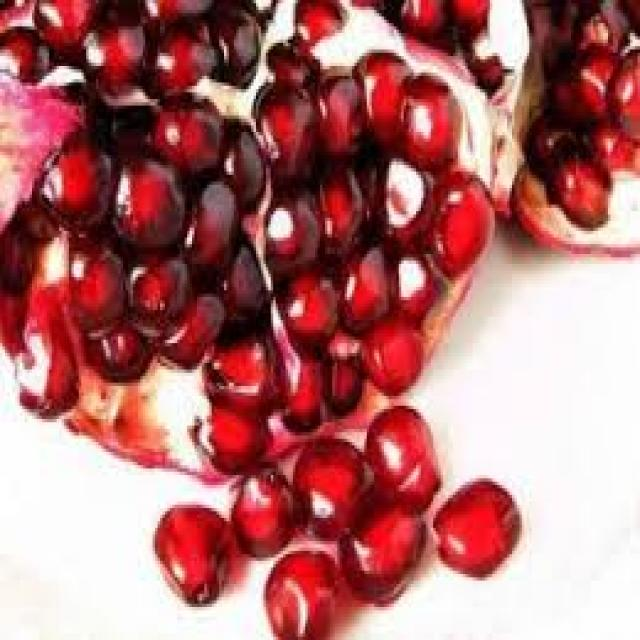organic waste: (0, 0, 527, 478), (502, 0, 638, 261), (335, 485, 423, 607), (359, 402, 438, 512), (431, 475, 517, 574), (150, 502, 234, 600), (263, 548, 340, 636), (293, 436, 364, 531), (229, 462, 295, 557)
